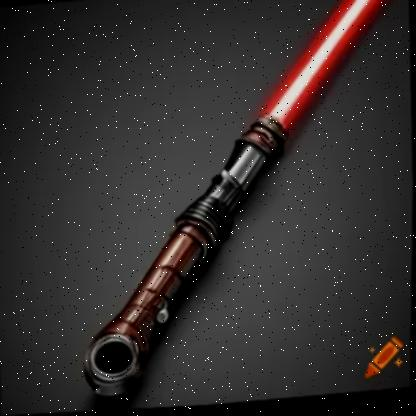sith_lightsaber: (68, 0, 416, 404)
